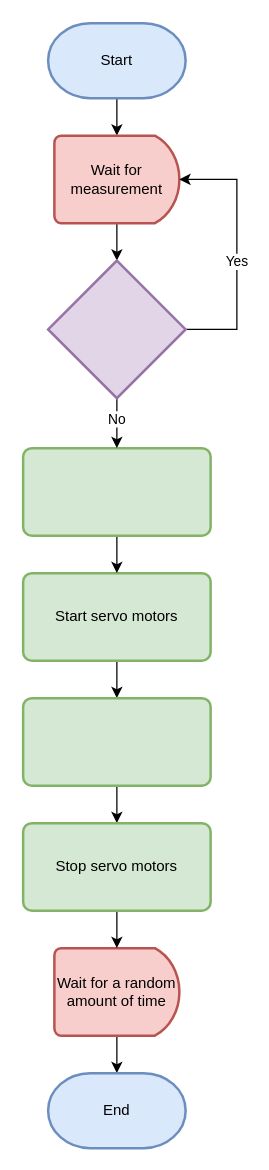
Image size: 269x1170. Some labels were removed from this diagram. The shapes that lost their labels are listed below. From the top down, each one's centre as x and y in pixels, then its label:
At [116,329]: "Is measurement good".
At [116,491]: "Pick a random position for each mortar".
At [116,741]: "Set servo motors to the random position".
